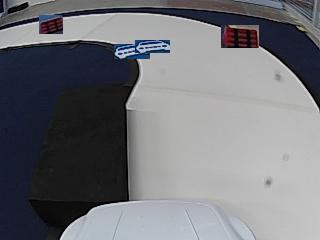block: (36, 80, 132, 205)
